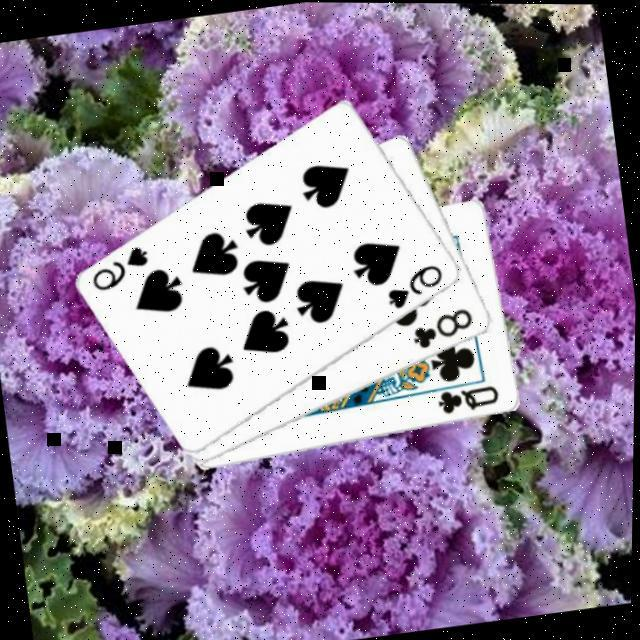8C: (408, 301, 482, 351)
9S: (87, 239, 159, 294), (382, 257, 451, 311)
QC: (436, 379, 505, 416)
